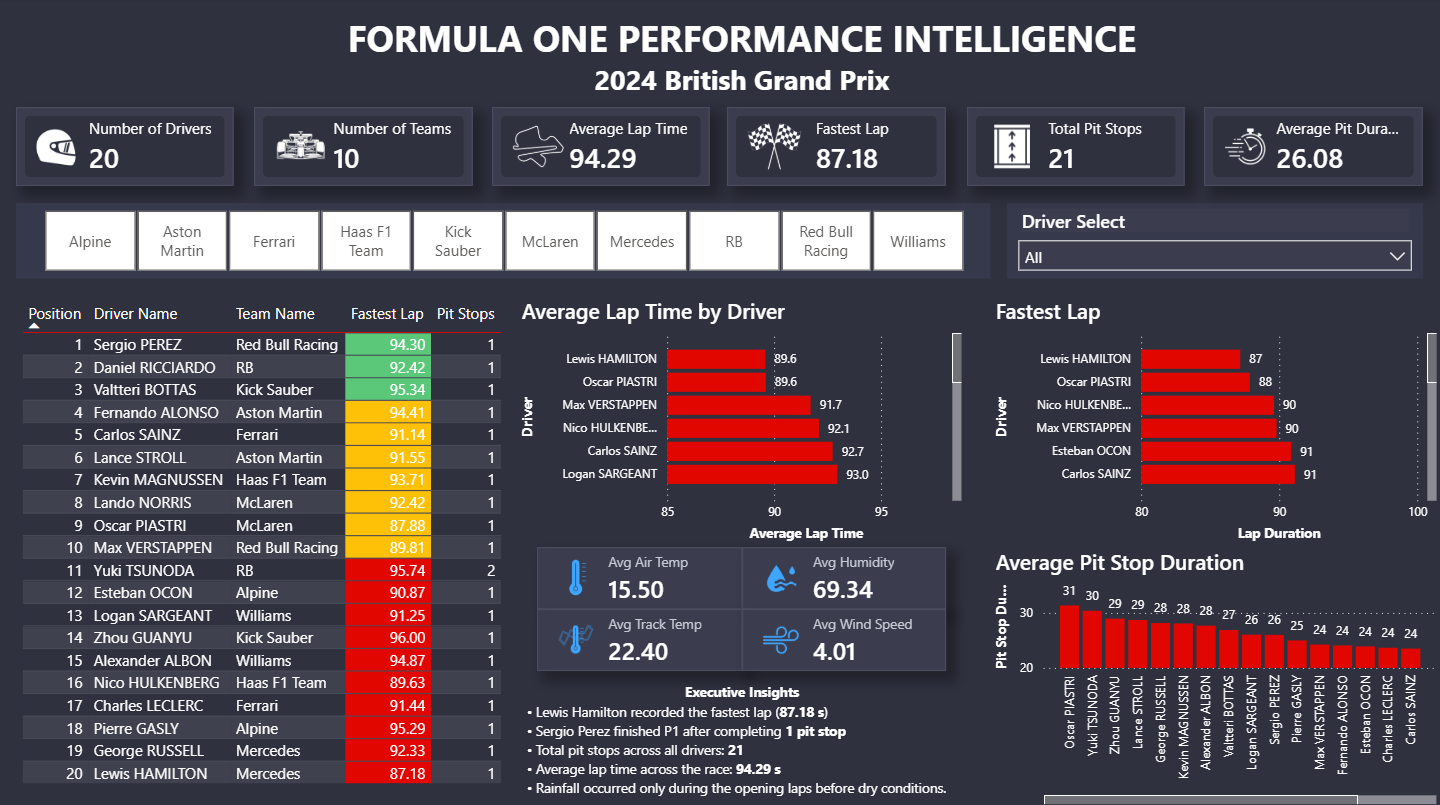

This screenshot's page, from the dashboard's own definition file:
{"tool":"powerbi","page":{"name":"Executive Dashboard","canvas":[1280,720],"ordinal":0},"visuals":[{"type":"textbox","box":[278.4,8,762.6,88.7],"z":0},{"type":"cardVisual","fields":{"Data":["drivers_clean.Number of Drivers"]},"box":[16,96.7,193.3,70],"z":1000},{"type":"slicer","fields":{"Values":["drivers_clean.team_name"]},"box":[16,181.8,863.6,66.5],"z":2000},{"type":"slicer","fields":{"Values":["race_summary.full_name"]},"box":[894.7,181.8,368.9,66.5],"z":3000},{"type":"clusteredBarChart","title":"Average Lap Time by Driver","fields":{"Category":["race_summary.full_name"],"Y":["Sum(race_summary.avg_lap_time)"]},"box":[459.3,264.2,399.9,222.6],"z":4000},{"type":"cardVisual","fields":{"Data":["drivers_clean.Number of Teams"]},"box":[227,96.7,194.2,70],"z":5000},{"type":"cardVisual","fields":{"Data":["drivers_clean.Average Lap Time"]},"box":[438,96.7,193.3,70],"z":6000},{"type":"cardVisual","fields":{"Data":["drivers_clean.Fastest Lap"]},"box":[646.4,96.7,194.2,70],"z":7000},{"type":"cardVisual","fields":{"Data":["drivers_clean.Total Pit Stops"]},"box":[859.2,96.7,193.3,70],"z":8000},{"type":"cardVisual","fields":{"Data":["drivers_clean.Average Pit Duration"]},"box":[1069.4,96.7,194.2,70],"z":9000},{"type":"clusteredColumnChart","title":"Average Pit Stop Duration","fields":{"Category":["race_summary.full_name"],"Y":["Sum(race_summary.avg_pit_duration)"]},"box":[879.6,486.8,400.8,233.2],"z":10000},{"type":"cardVisual","fields":{"Data":["drivers_clean.Avg Air Temp"]},"box":[477.9,486.8,181.8,55],"z":11000},{"type":"cardVisual","fields":{"Data":["drivers_clean.Avg Track Temp"]},"box":[477.9,541.8,181.8,55],"z":12000},{"type":"cardVisual","fields":{"Data":["drivers_clean.Avg Humidity"]},"box":[659.7,486.8,180.9,55],"z":13000},{"type":"cardVisual","fields":{"Data":["_Measures.Avg Wind Speed"]},"box":[659.7,541.8,180.9,55],"z":14000},{"type":"clusteredBarChart","title":"Fastest Lap","fields":{"Category":["race_summary.full_name"],"Y":["drivers_clean.Fastest Lap"]},"box":[879.6,264.2,400.8,222.6],"z":15000},{"type":"tableEx","title":"Fastest Lap","fields":{"Values":["FinalRace.position","race_summary.full_name","race_summary.team_name","race_summary.fastest_lap","race_summary.pit_stops"]},"box":[16,264.2,443.3,445.1],"z":16000},{"type":"textbox","box":[463.7,601.2,391.9,118.8],"z":17000}]}

Visuals, with their boxes in screenshot pixels (x1, y1, x2, y2), scaled from the page's 1280x720 canvas onto the 1440x805 screenshot:
textbox: detection(313, 9, 1171, 108)
cardVisual - drivers_clean.Number of Drivers: detection(18, 108, 235, 186)
slicer - drivers_clean.team_name: detection(18, 203, 990, 278)
slicer - race_summary.full_name: detection(1007, 203, 1422, 278)
"Average Lap Time by Driver" clusteredBarChart: detection(517, 295, 967, 544)
cardVisual - drivers_clean.Number of Teams: detection(255, 108, 474, 186)
cardVisual - drivers_clean.Average Lap Time: detection(493, 108, 710, 186)
cardVisual - drivers_clean.Fastest Lap: detection(727, 108, 946, 186)
cardVisual - drivers_clean.Total Pit Stops: detection(967, 108, 1184, 186)
cardVisual - drivers_clean.Average Pit Duration: detection(1203, 108, 1422, 186)
"Average Pit Stop Duration" clusteredColumnChart: detection(990, 544, 1439, 804)
cardVisual - drivers_clean.Avg Air Temp: detection(538, 544, 742, 606)
cardVisual - drivers_clean.Avg Track Temp: detection(538, 606, 742, 667)
cardVisual - drivers_clean.Avg Humidity: detection(742, 544, 946, 606)
cardVisual - _Measures.Avg Wind Speed: detection(742, 606, 946, 667)
"Fastest Lap" clusteredBarChart: detection(990, 295, 1439, 544)
"Fastest Lap" tableEx: detection(18, 295, 517, 793)
textbox: detection(522, 672, 963, 804)
